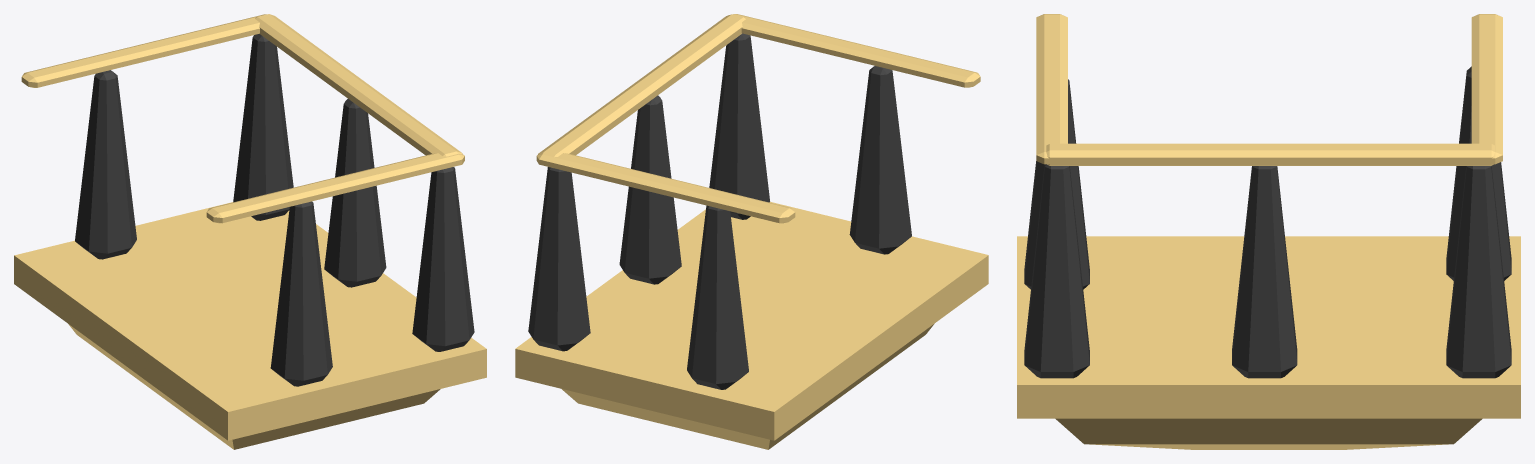
The model's file is Balcony.fbx.
3 renders of one model, left to right at view 1: azimuth 30°, elevation 25°; view 2: azimuth 150°, elevation 25°; view 3: azimuth 270°, elevation 25°, orthographic. The views are drawn at different scales.
Visible parts, largest first — view 1: pCube24, pCube32, pCube31, pCube30, pCube26, pCube29, pCube19, pCube23, pCube22, pCube16; view 2: pCube24, pCube32, pCube30, pCube19, pCube31, pCube29, pCube26, pCube23, pCube16, pCube22; view 3: pCube32, pCube24, pCube23, pCube26, pCube19, pCube29, pCube22, pCube16, pCube31, pCube30.
Part boxes in pixels (x1,y1,x2,y2): pCube24: [14, 202, 466, 449]; pCube32: [14, 203, 486, 440]; pCube31: [75, 70, 136, 259]; pCube30: [270, 201, 332, 386]; pCube26: [412, 167, 474, 351]; pCube29: [324, 99, 386, 287]; pCube19: [233, 34, 293, 220]; pCube23: [255, 14, 462, 156]; pCube22: [206, 153, 464, 223]; pCube16: [21, 14, 266, 87]; pCube24: [515, 204, 988, 449]; pCube32: [515, 201, 988, 440]; pCube30: [849, 66, 911, 254]; pCube19: [528, 167, 590, 351]; pCube31: [687, 205, 748, 389]; pCube29: [619, 95, 681, 284]; pCube26: [709, 33, 769, 219]; pCube23: [538, 14, 745, 157]; pCube16: [536, 153, 795, 223]; pCube22: [733, 14, 980, 87]; pCube32: [1017, 236, 1520, 418]; pCube24: [1017, 236, 1520, 449]; pCube23: [1046, 143, 1494, 165]; pCube26: [1024, 164, 1089, 378]; pCube19: [1446, 166, 1511, 378]; pCube29: [1232, 166, 1297, 378]; pCube22: [1036, 14, 1067, 164]; pCube16: [1471, 14, 1502, 164]; pCube31: [1446, 66, 1511, 280]; pCube30: [1024, 79, 1089, 289].
Size of the model in its own units: 11.27 by 11.96 by 15.95.
